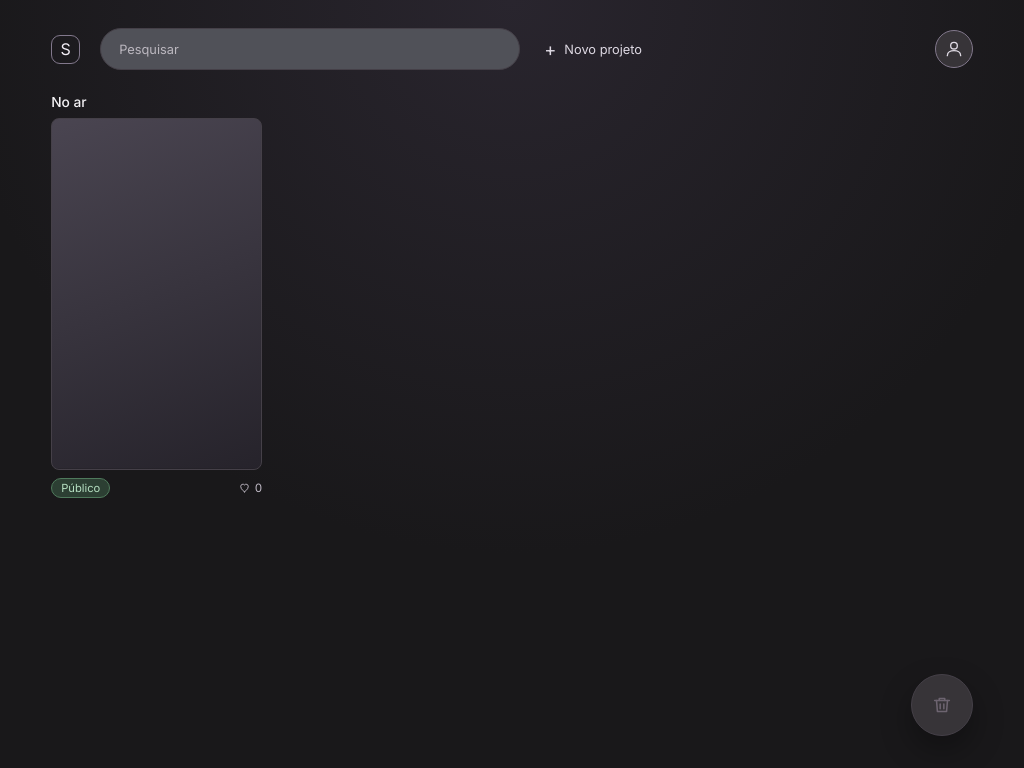
criar e editar › projeto publicado não se edita: o botão fica desligado e explica por quê
Expected: the heading "No ar" is shown, [51, 94, 87, 110]
Click the button titled "Clique para selecionar, duplo clique para abrir": (157, 294) [51, 118, 262, 470]
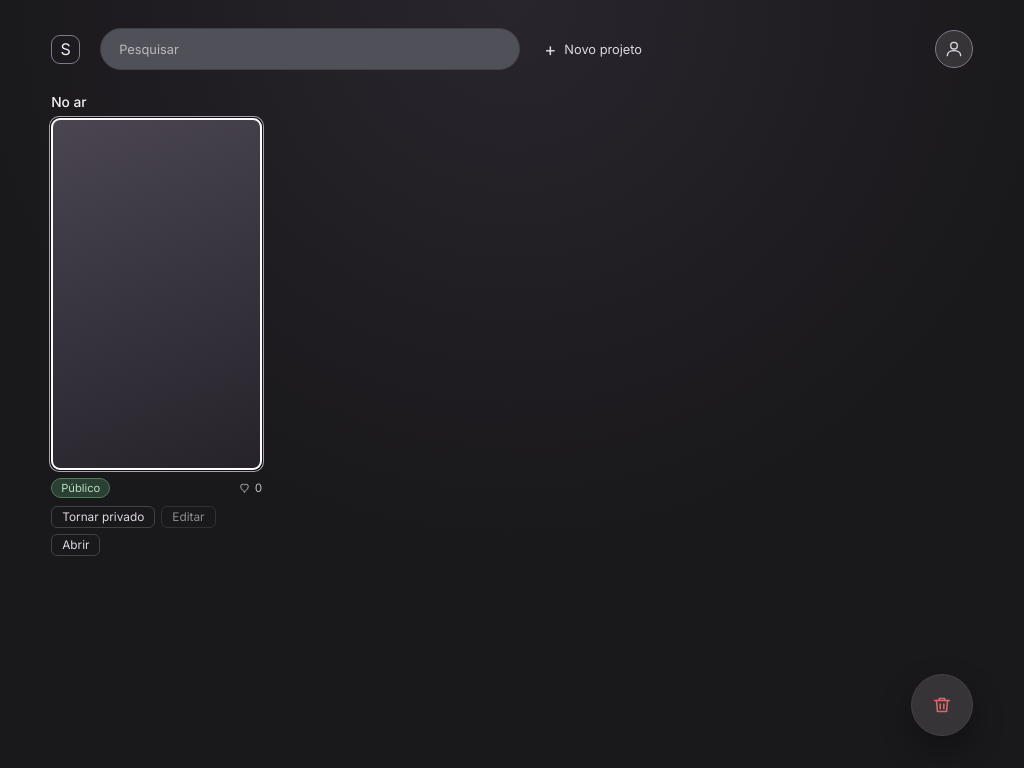
Now the button "Editar" is disabled, box [161, 506, 216, 528]
